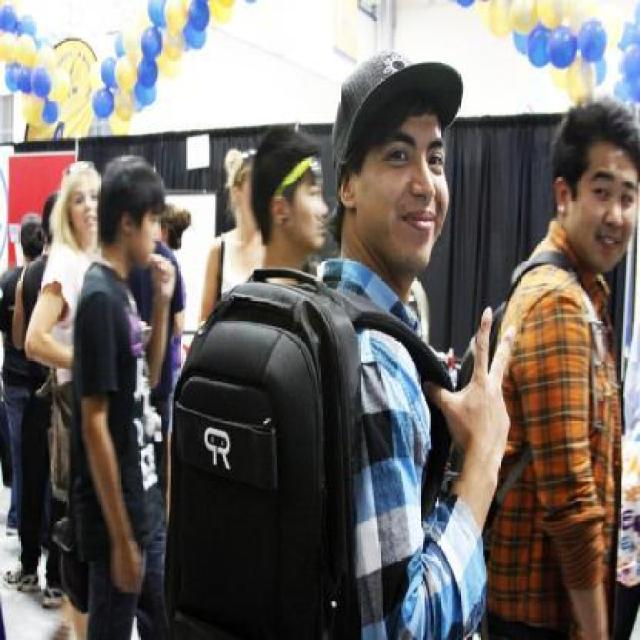backpack: (164, 254, 364, 640)
